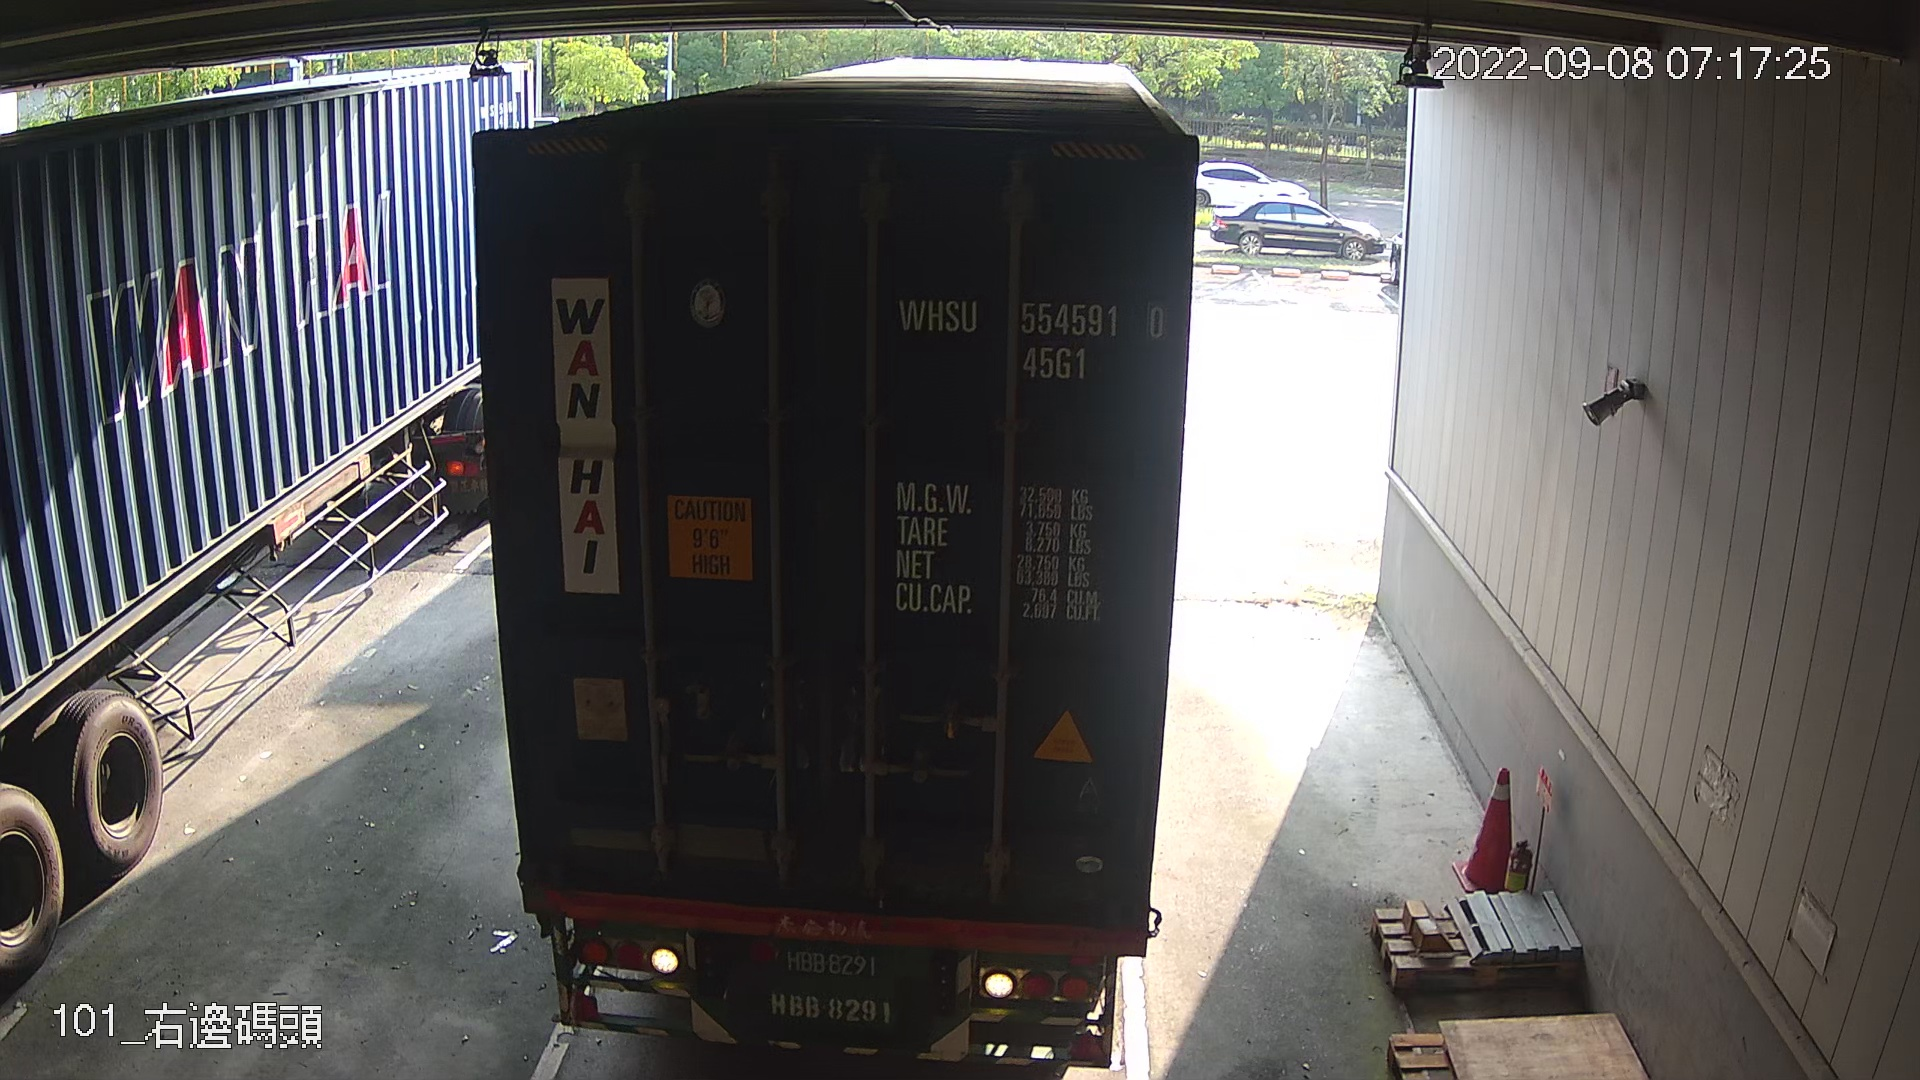container: (891, 280, 1172, 386)
